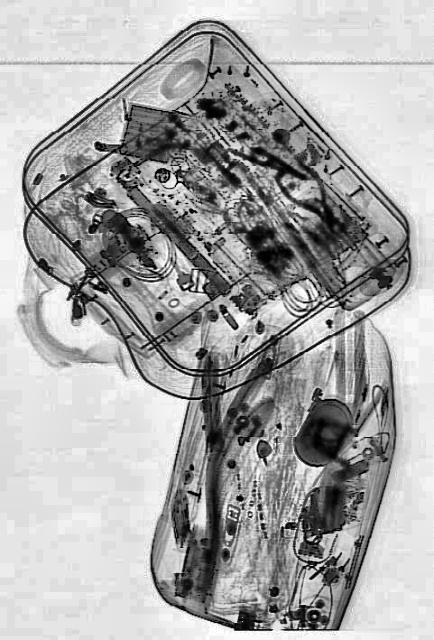Pliers: (274, 147, 348, 245)
